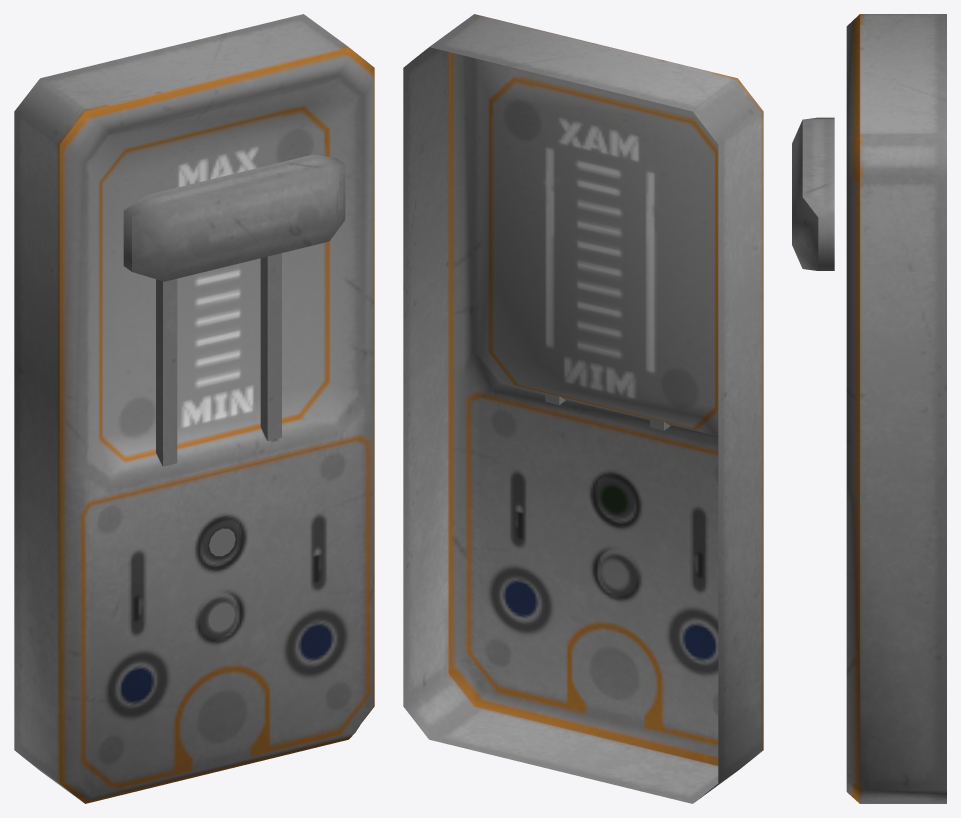
The model's file is Lever B1A.fbx.
3 renders of one model, left to right at view 1: azimuth 30°, elevation 25°; view 2: azimuth 150°, elevation 25°; view 3: azimuth 270°, elevation 25°, orthographic. The views are drawn at different scales.
Parts seen in each view (by area): view 1: Lever B1A, LeverHandle B1A; view 2: Lever B1A; view 3: Lever B1A, LeverHandle B1A.
Part boxes in pixels (<box>): Lever B1A: <box>14,14,374,803</box>; LeverHandle B1A: <box>123,154,345,466</box>; Lever B1A: <box>403,14,763,803</box>; Lever B1A: <box>846,14,946,803</box>; LeverHandle B1A: <box>792,117,834,270</box>.
Bounding box in the file's own units: 8.19 × 17.19 × 3.62.
3 materials, 1 textured.
